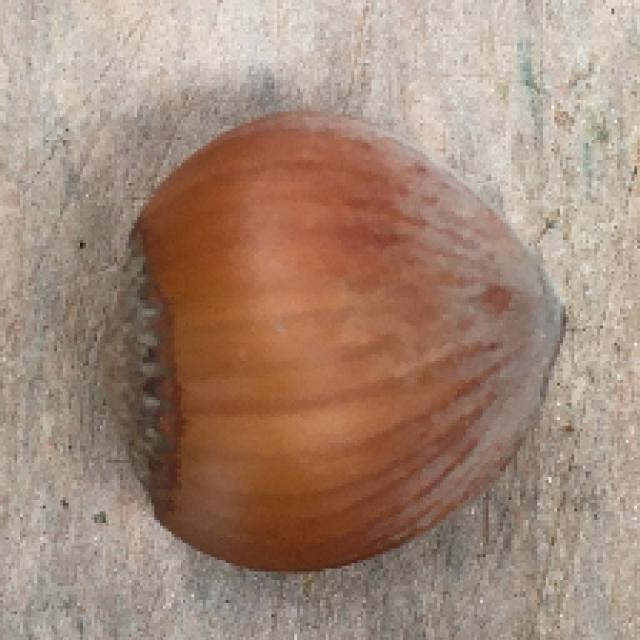QualityHazelnut: (114, 109, 572, 575)
